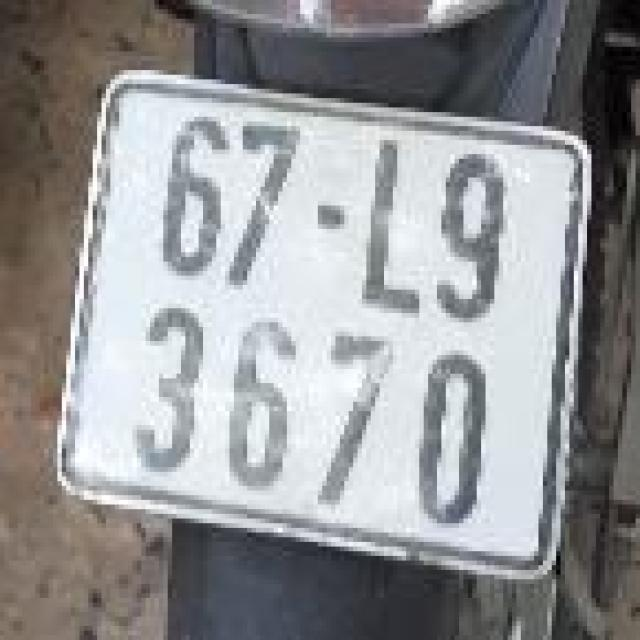0: (413, 341, 492, 542)
3: (124, 292, 208, 488)
6: (220, 306, 296, 498), (157, 107, 227, 280)
7: (302, 316, 400, 516), (223, 103, 307, 290)
9: (432, 144, 508, 332)
L: (362, 121, 419, 318)
